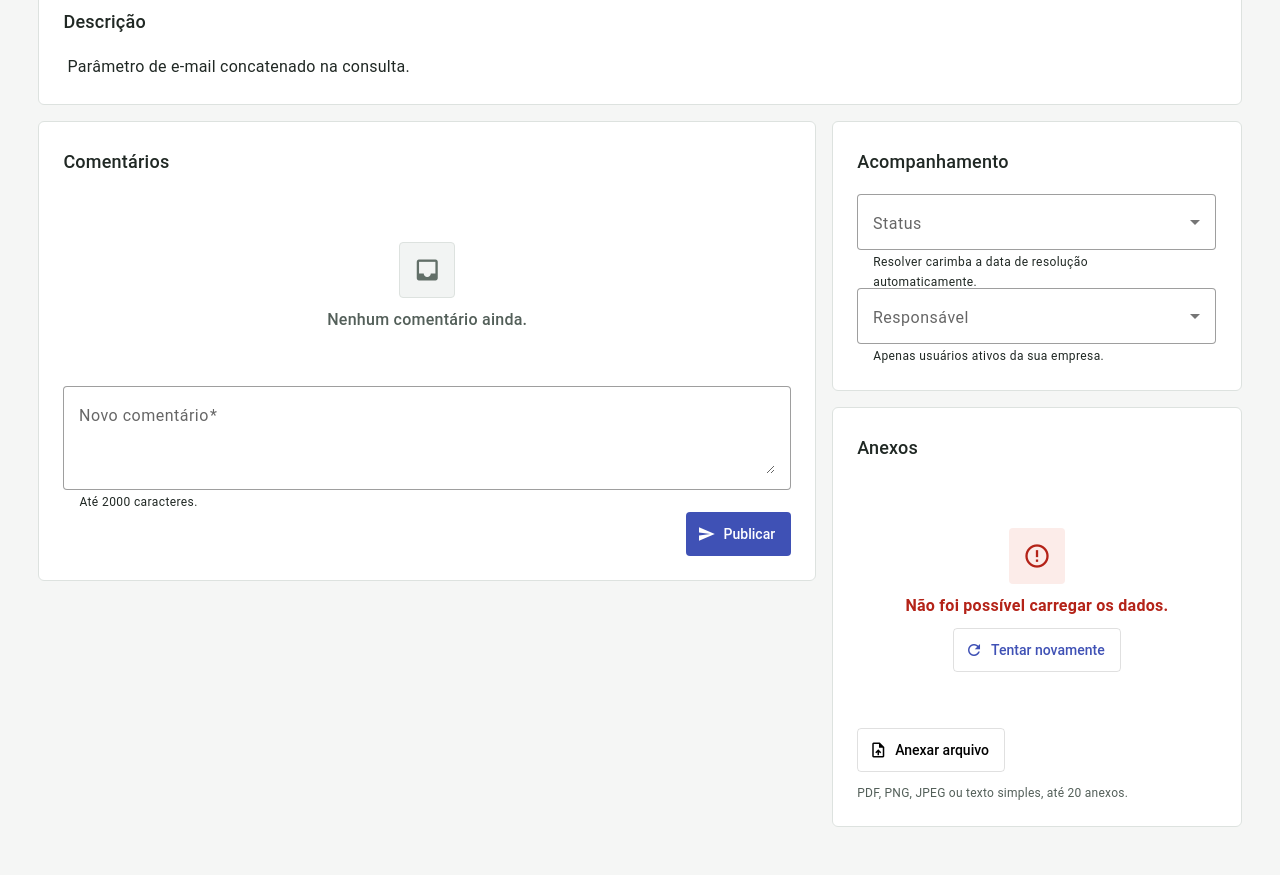
Test: VulnerabilityDetailComponent › isola a falha dos anexos: o achado continua na tela, com retry na seção
(page scrolled)
Click the button "Tentar novamente": [1037, 650] box [953,628,1121,672]
(page scrolled)
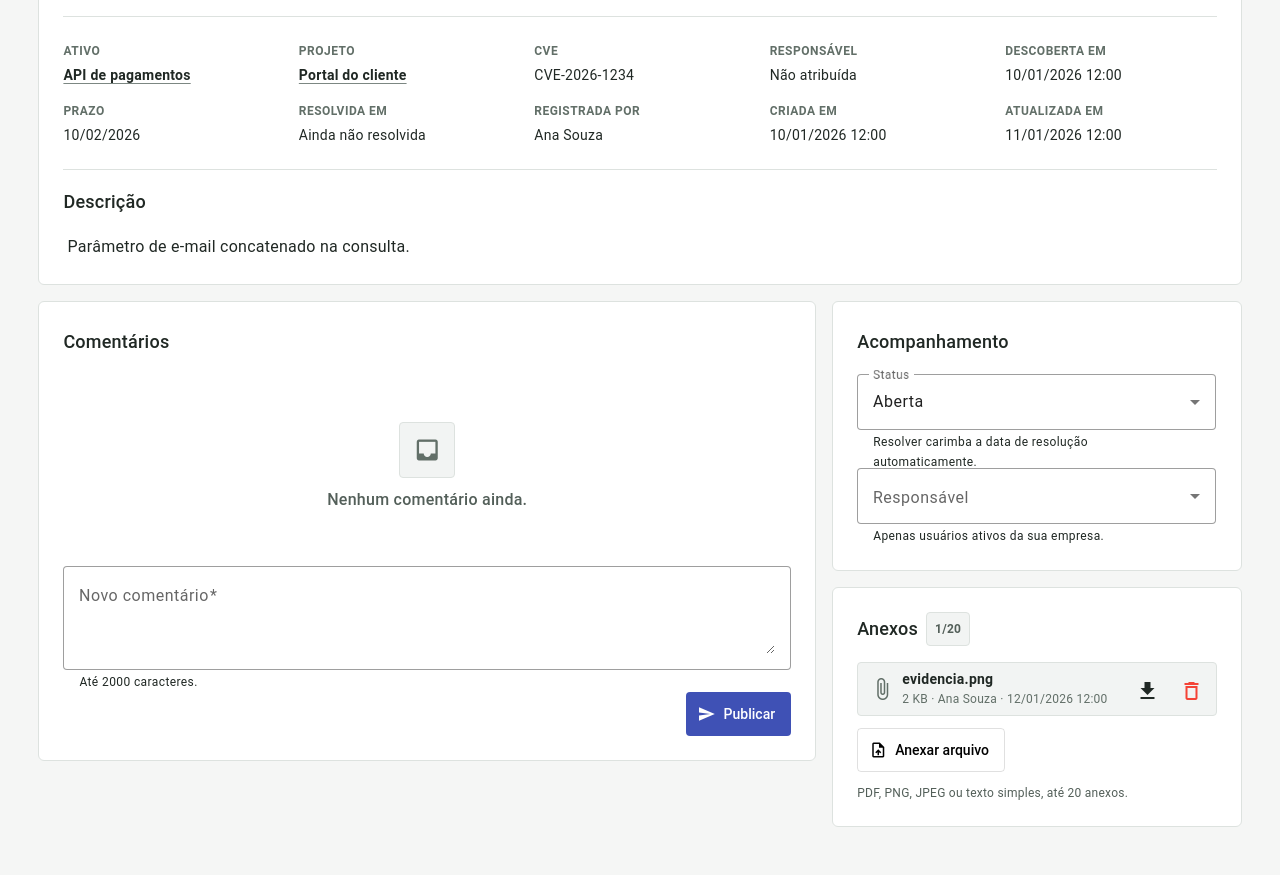
Expected: the text "evidencia.png" is shown, [902,671,993,687]
